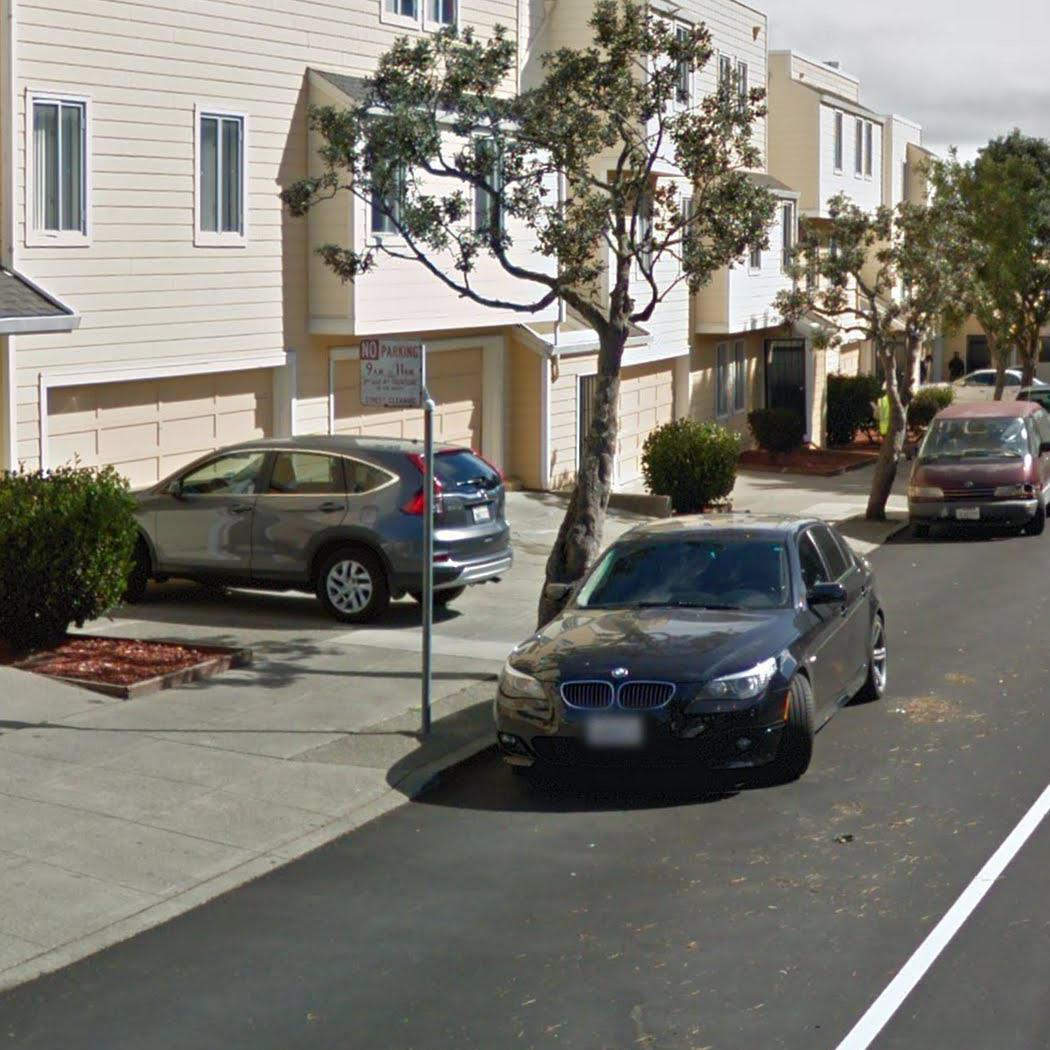No Parking: (351, 331, 431, 412)
